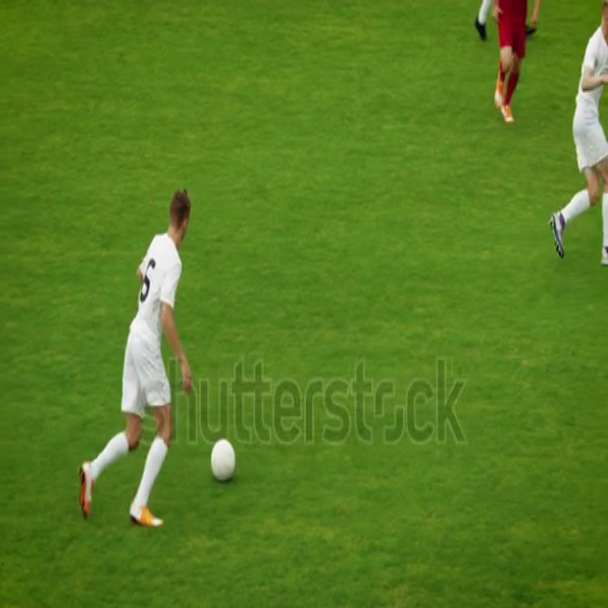ball: (207, 436, 238, 484)
